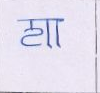aa_matra: (56, 21, 60, 46)
